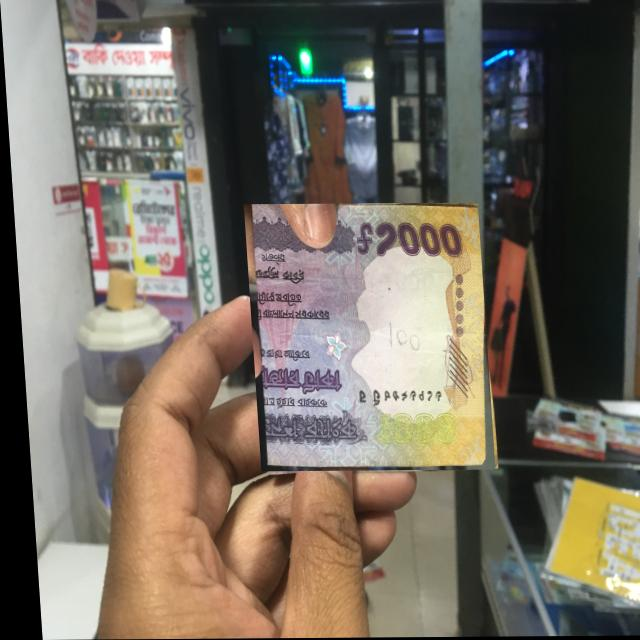Taka: (241, 203, 489, 472)
